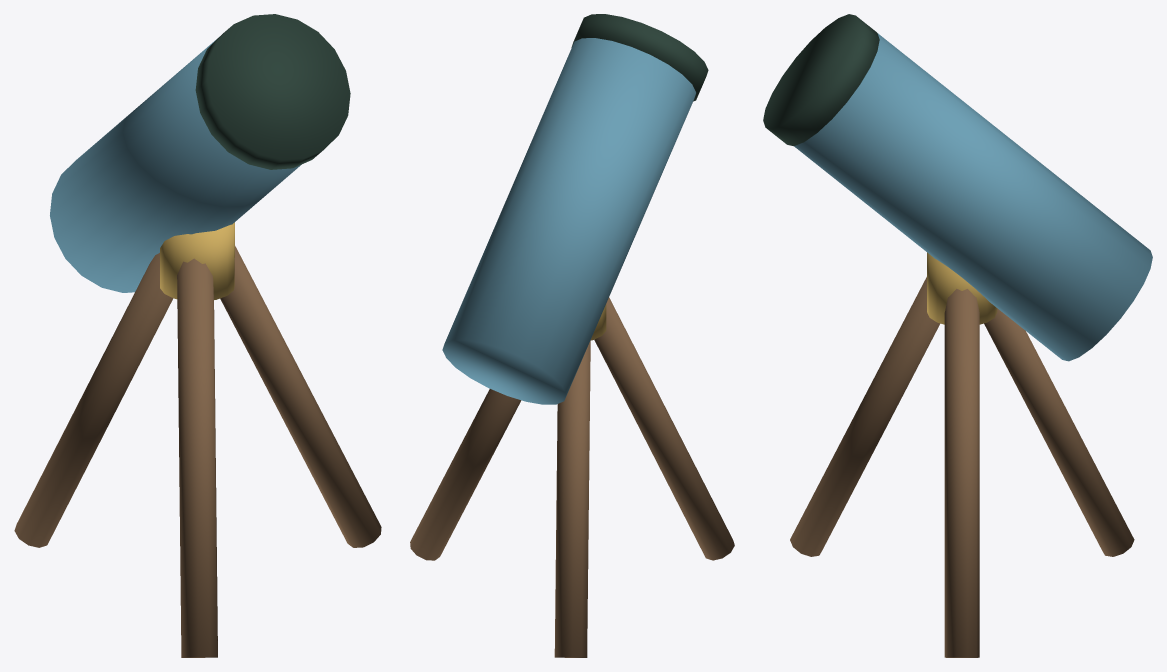
File: telescope.glb
3 views of the same model, side by side, from view 1: azimuth 30°, elevation 25°; view 2: azimuth 150°, elevation 25°; view 3: azimuth 270°, elevation 25° (orthographic). The views are drawn at different scales.
Visible parts, largest first — view 1: body; view 2: body; view 3: body.
Boxes of the visible parts, x1=… form: body: x1=14, y1=14, x2=381, y2=657; body: x1=410, y1=14, x2=734, y2=657; body: x1=763, y1=14, x2=1152, y2=657.
Bounding box in the file's own units: 0.9343 × 1.95 × 1.22.
